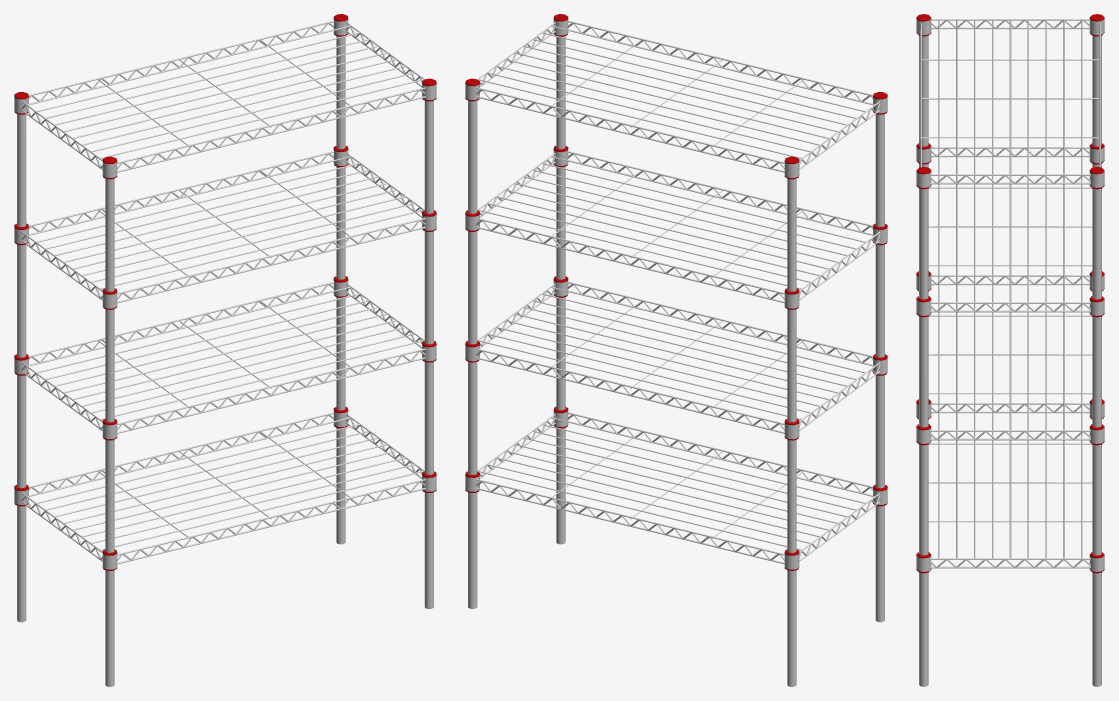
Rendered from Shelf01.fbx.
3 renders of one model, left to right at view 1: azimuth 30°, elevation 25°; view 2: azimuth 150°, elevation 25°; view 3: azimuth 270°, elevation 25°, orthographic.
Parts seen in each view (by area): view 1: Shelf01; view 2: Shelf01; view 3: Shelf01.
Boxes of the visible parts, x1=… form: Shelf01: x1=14, y1=14, x2=436, y2=686; Shelf01: x1=465, y1=14, x2=887, y2=686; Shelf01: x1=916, y1=14, x2=1104, y2=686.
Bounding box in the file's own units: 100 × 151 × 50.
